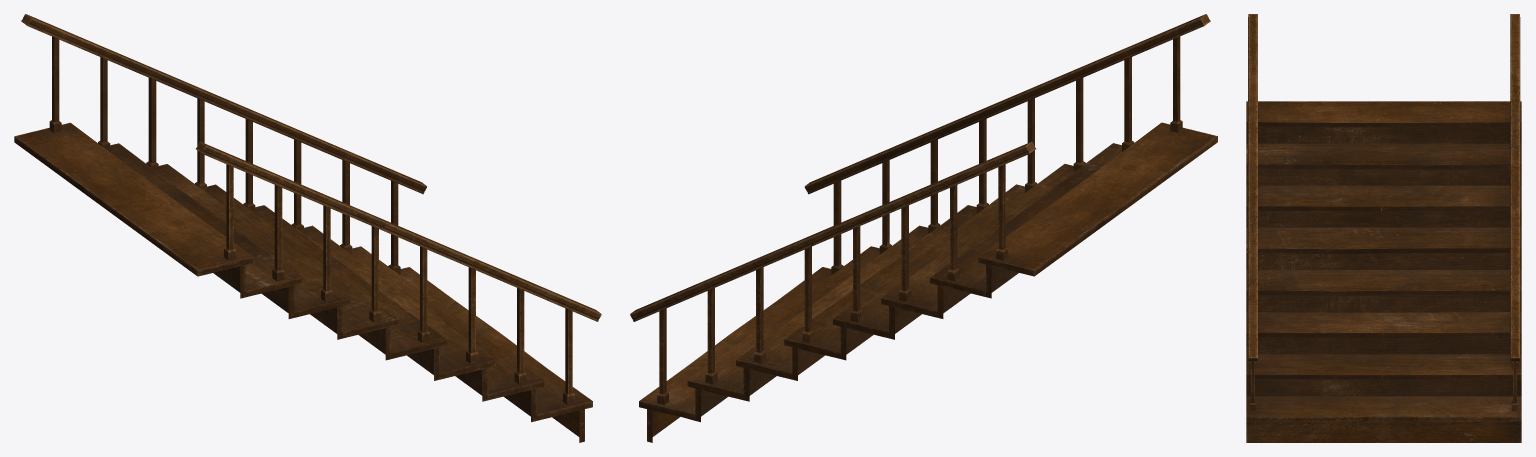
File: wood_stairs.fbx
The picture shows the model from 3 angles, left to right: view 1: azimuth 30°, elevation 25°; view 2: azimuth 150°, elevation 25°; view 3: azimuth 270°, elevation 25°; orthographic projection. The views are drawn at different scales.
Visible parts, largest first — view 1: Куб.012; view 2: Куб.012; view 3: Куб.012.
Part boxes in pixels (bbox=[...]): Куб.012: bbox=[14, 14, 601, 442]; Куб.012: bbox=[630, 14, 1217, 442]; Куб.012: bbox=[1246, 14, 1521, 442].
Size of the model in its own units: 948 by 864 by 743.
2 materials, 2 textured.
